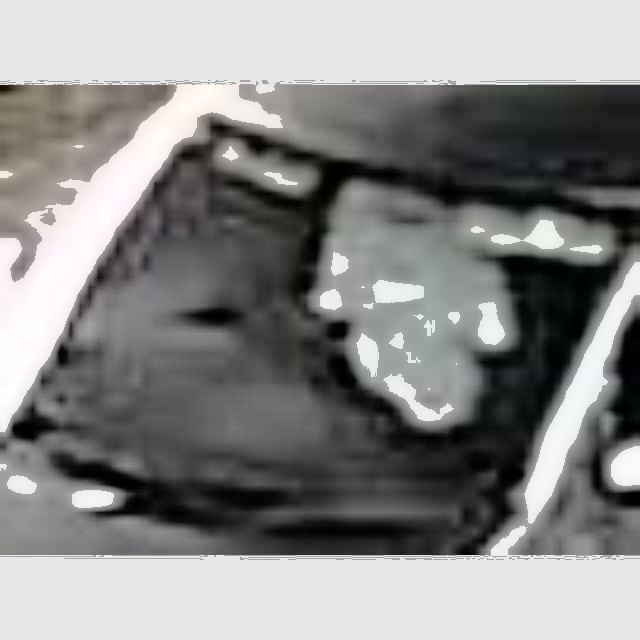tidak-pakai: (264, 198, 499, 452)
